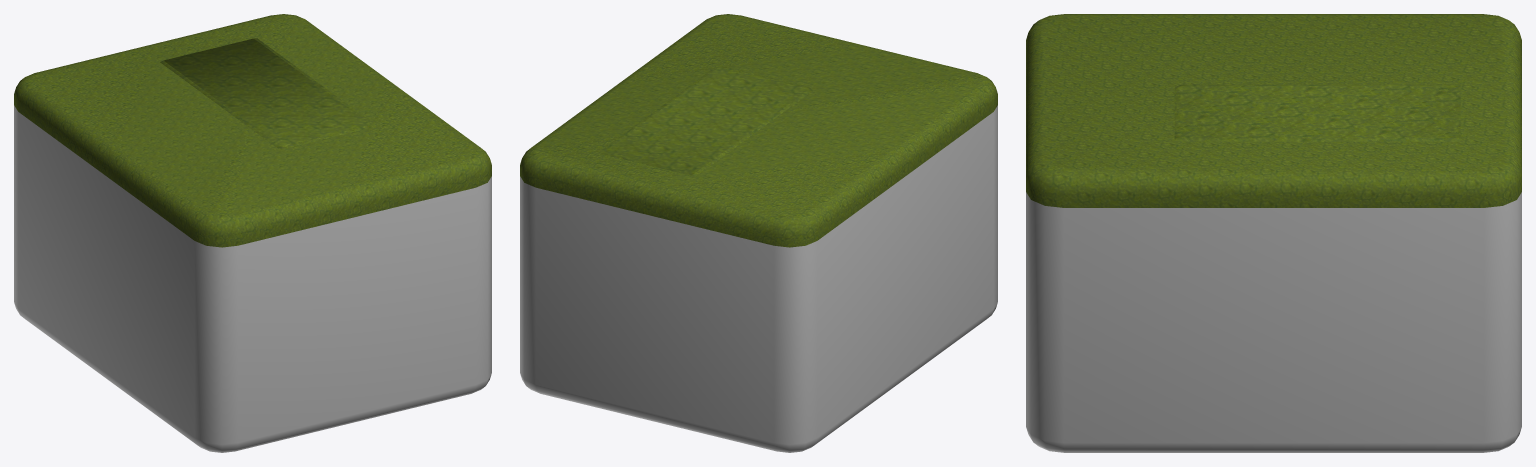
File: TerrainRight.fbx
3 views of the same model, side by side, from view 1: azimuth 30°, elevation 25°; view 2: azimuth 150°, elevation 25°; view 3: azimuth 270°, elevation 25° (orthographic). The views are drawn at different scales.
Visible parts, largest first — view 1: Cube, Terrain, TerrainLeft; view 2: Cube, Terrain, TerrainLeft; view 3: Cube, Terrain, TerrainRight, TerrainLeft.
Boxes of the visible parts, x1,y1,x2,y2 form: Cube: [14, 14, 491, 452]; Terrain: [164, 38, 373, 148]; TerrainLeft: [160, 60, 282, 148]; Cube: [520, 14, 997, 452]; Terrain: [601, 66, 811, 175]; TerrainLeft: [691, 88, 812, 176]; Cube: [1026, 14, 1521, 452]; Terrain: [1174, 86, 1460, 139]; TerrainRight: [1175, 138, 1460, 141]; TerrainLeft: [1176, 84, 1460, 86].
Size of the model in its own units: 1299 by 1000 by 1596.
